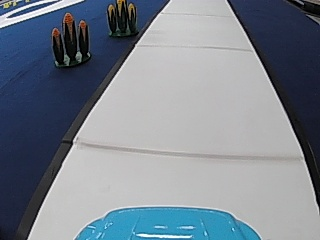corn: (49, 11, 92, 68), (104, 0, 139, 37)
